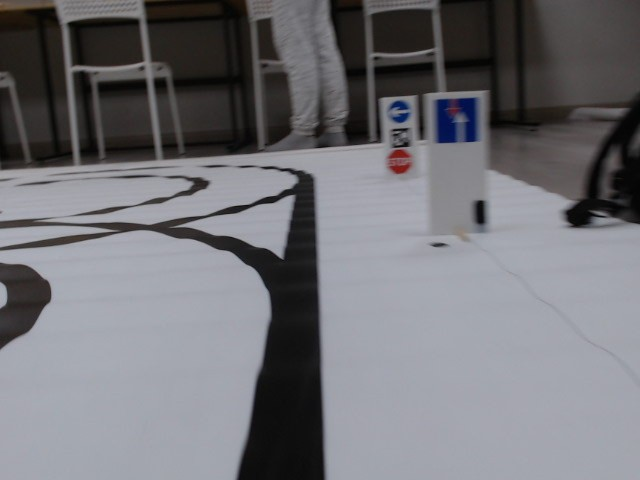Stop: (387, 148, 412, 175)
priority_movement: (432, 96, 481, 145)
